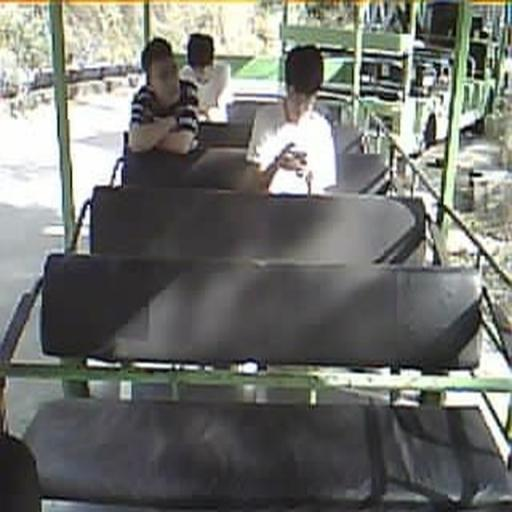persona: (252, 43, 338, 196), (128, 36, 202, 156), (178, 32, 229, 123)
